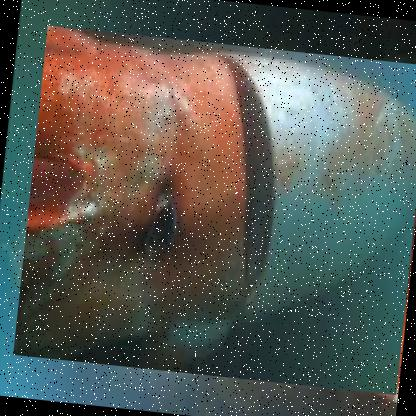colossal_squid: (12, 24, 415, 396)
